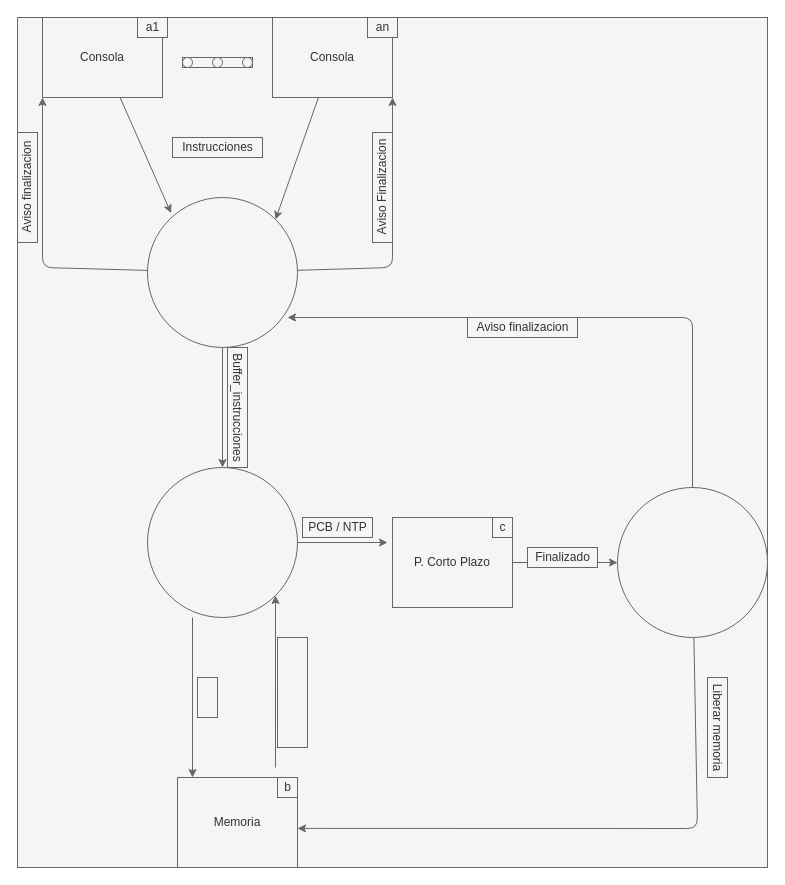
The diagram is 785 pixels wide and 885 high, and some of its shapes have lost their labels. The centre of each missing label's shape, as x and y in pixels:
"Gestionar Comunicaciones" goes at pixel 222 272.
"Gestionar Exit" goes at pixel 692 562.
"Gestionar PCB" goes at pixel 222 542.
"N Tabla de pagina (NTP)" goes at pixel 292 692.
"PCB" goes at pixel 207 697.
